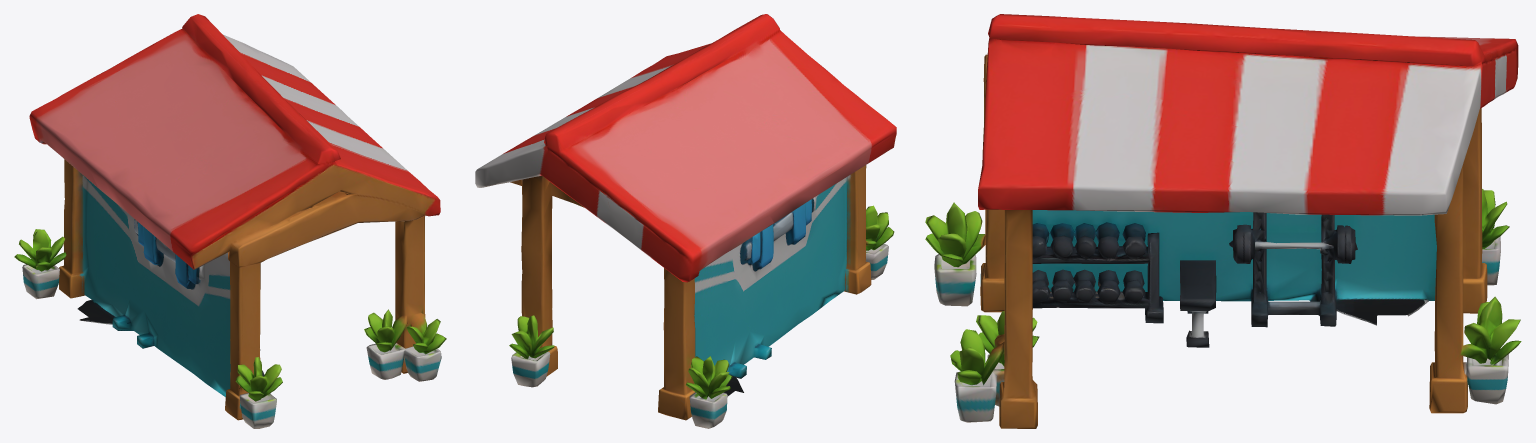
The model's file is pavilion.glb.
3 views of the same model, side by side, from view 1: azimuth 30°, elevation 25°; view 2: azimuth 150°, elevation 25°; view 3: azimuth 270°, elevation 25° (orthographic). The views are drawn at different scales.
Parts seen in each view (by area): view 1: tripo_node_ec823f04-64b7-4063-9d50-1ee238972075; view 2: tripo_node_ec823f04-64b7-4063-9d50-1ee238972075; view 3: tripo_node_ec823f04-64b7-4063-9d50-1ee238972075.
Boxes of the visible parts, x1,y1,x2,y2 form: tripo_node_ec823f04-64b7-4063-9d50-1ee238972075: (14,14,446,428); tripo_node_ec823f04-64b7-4063-9d50-1ee238972075: (475,14,896,428); tripo_node_ec823f04-64b7-4063-9d50-1ee238972075: (925,14,1521,428).
Bounding box in the file's own units: 0.7155 × 0.6382 × 1.
1 material, 1 textured.
